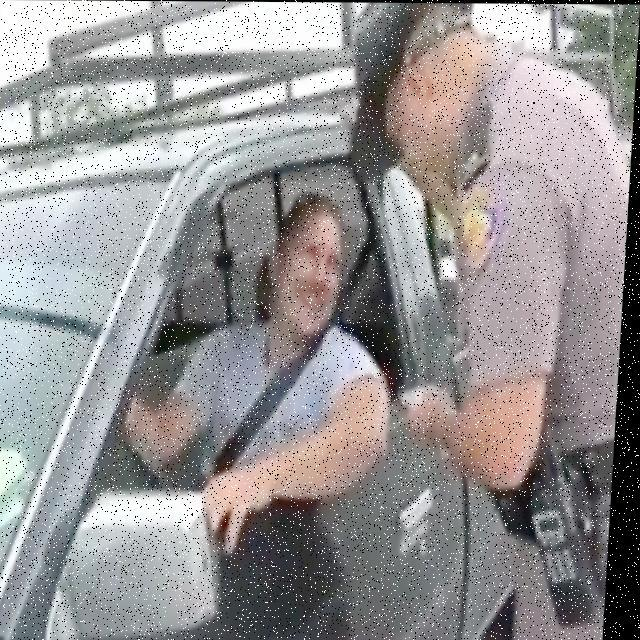seatbelt: (188, 302, 373, 484)
